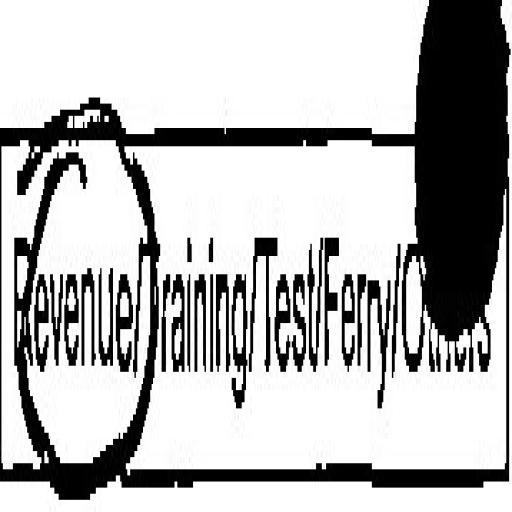check: (4, 0, 145, 512)
